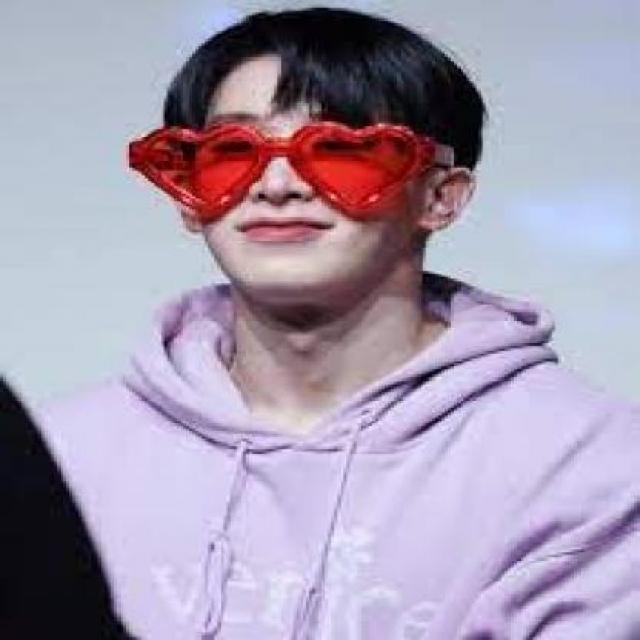glasses: (123, 116, 432, 224)
